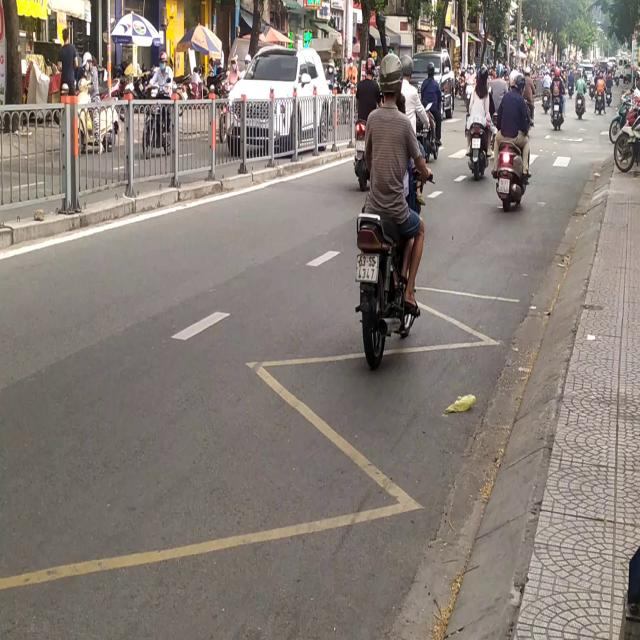bien_trang: (354, 252, 378, 284)
